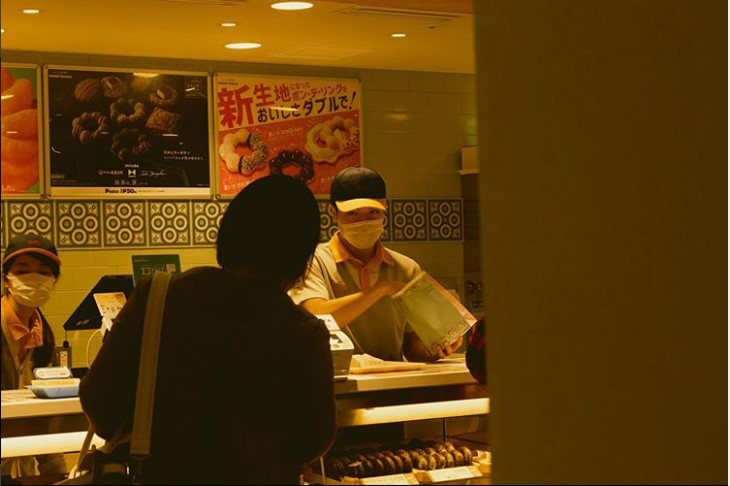face_with_mask: (325, 171, 391, 252), (5, 245, 64, 310)
